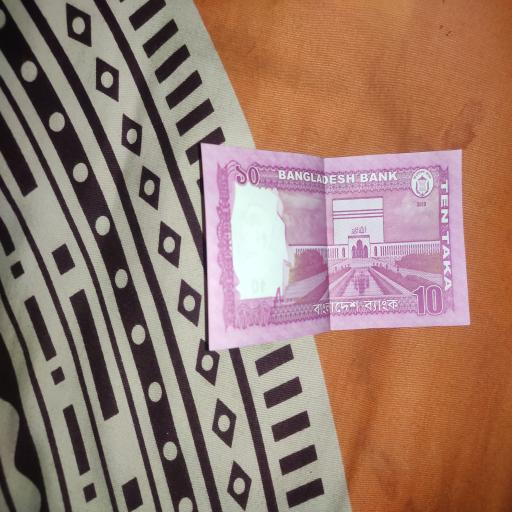10taka: (203, 144, 471, 350)
